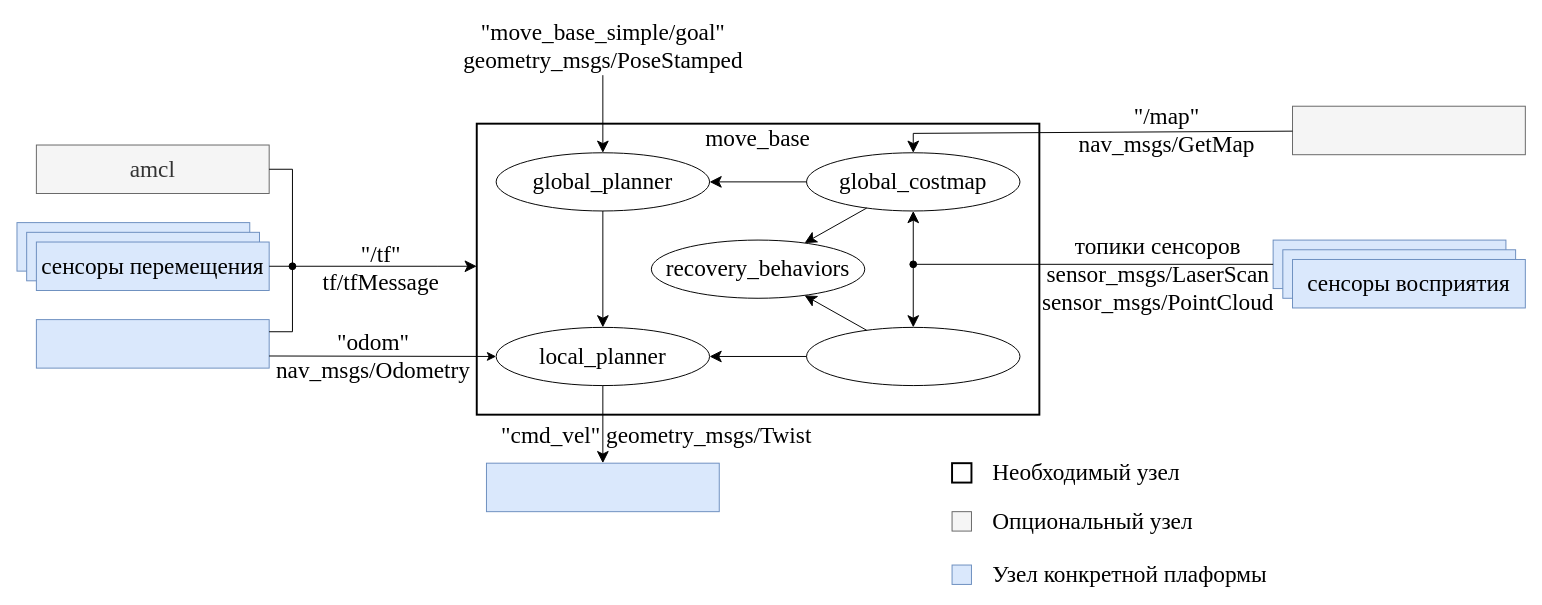
The diagram is 1542 pixels wide and 605 high, and some of its shapes have lost their labels. The shapes that lost their labels are listed below. From the top down, each one's box as (x1, y1, x2, y2) in pixels, then its label:
(1292, 105, 1525, 155): map_server
(35, 319, 269, 368): источник одометрии
(806, 326, 1020, 386): local_costmap
(485, 462, 719, 512): контроллер
